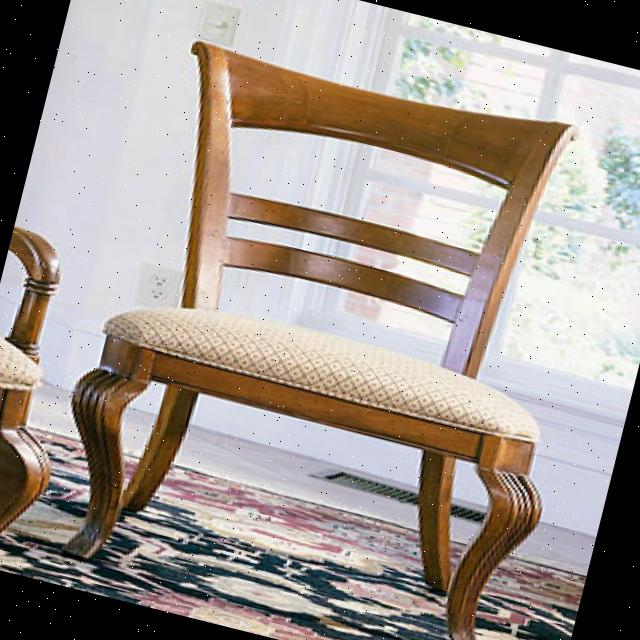Chair: (7, 3, 640, 640)
